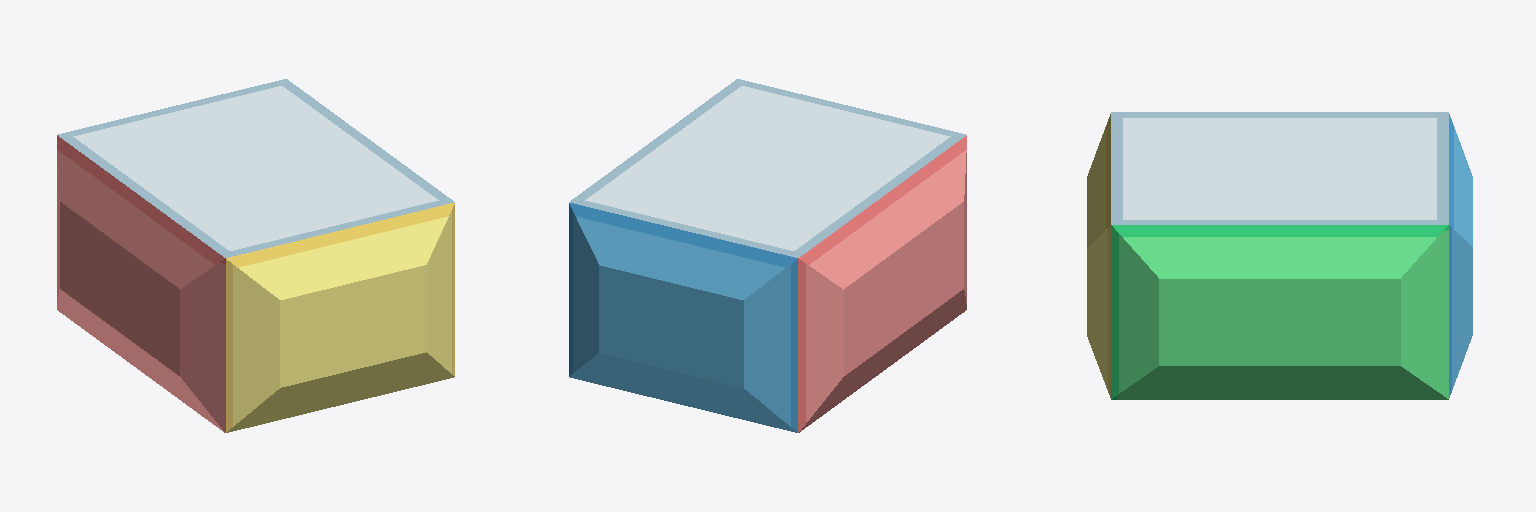
3 views of the same model, side by side, from view 1: azimuth 30°, elevation 25°; view 2: azimuth 150°, elevation 25°; view 3: azimuth 270°, elevation 25° (orthographic).
Parts seen in each view (by area): view 1: cube; view 2: cube; view 3: cube.
Part boxes in pixels (x1,y1,x2,y2): cube: (57, 79, 454, 432); cube: (569, 79, 966, 432); cube: (1087, 112, 1472, 399).
Bounding box in the file's own units: 0.8125 × 0.5 × 1.
1 materials, 1 textured.